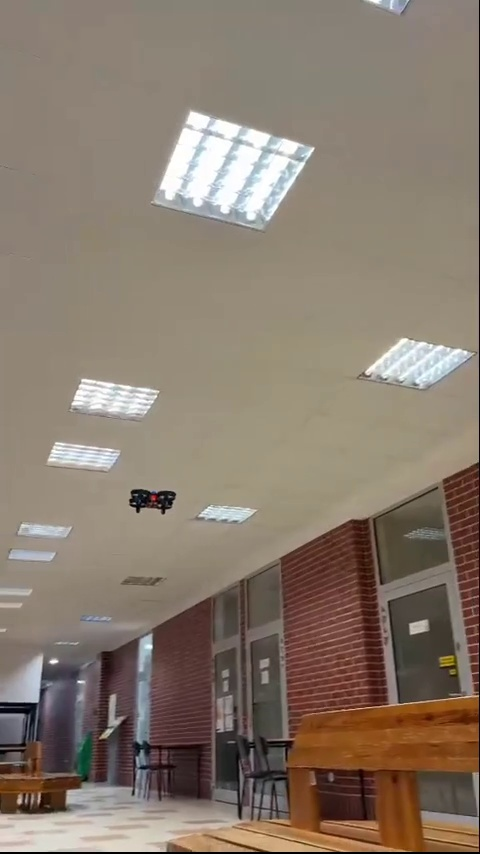drone: (126, 488, 178, 517)
